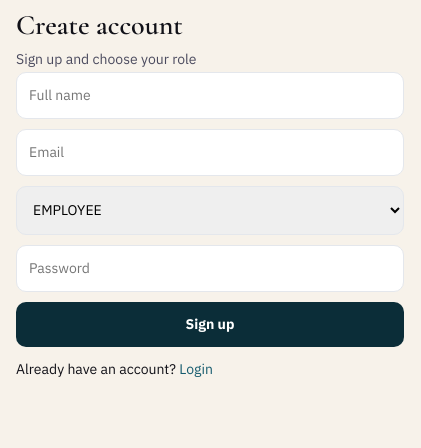
Test case: Register page › shows error on registration failure
This screenshot has width=421, height=448.
In the field with placeholder "Full name": [210, 95] box top-left (16, 72), bottom-right (404, 119), type "Alice"
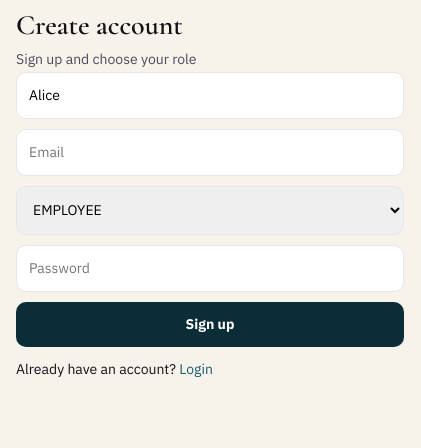
In the field with placeholder "Email": [210, 152] box top-left (16, 129), bottom-right (404, 176), type "alice@test.com"
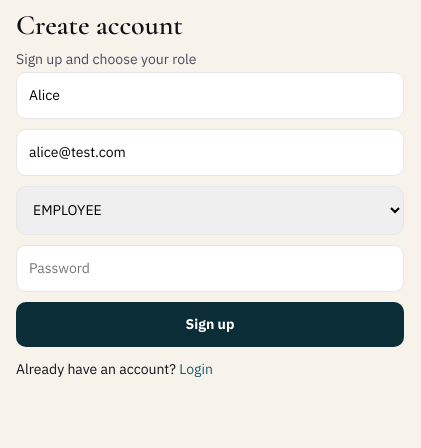
In the password field with placeholder "Password": [210, 268] box top-left (16, 245), bottom-right (404, 292), type "pass123"
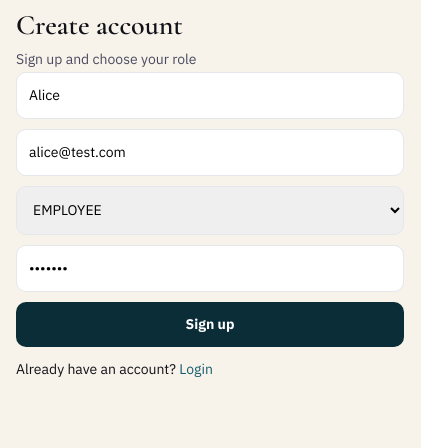
Click the button "Sign up": [210, 324] box top-left (16, 302), bottom-right (404, 347)
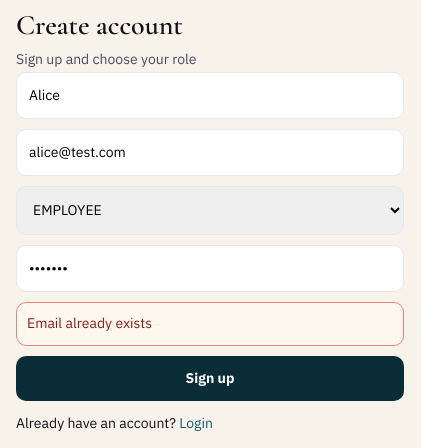
Result: the text "Email already exists" is shown at top-left (16, 302), bottom-right (404, 346)
